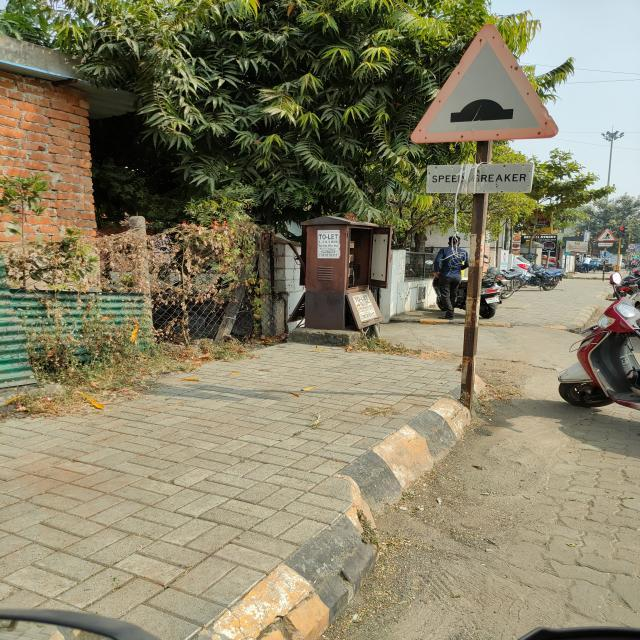hump or rough road: (410, 23, 557, 137)
